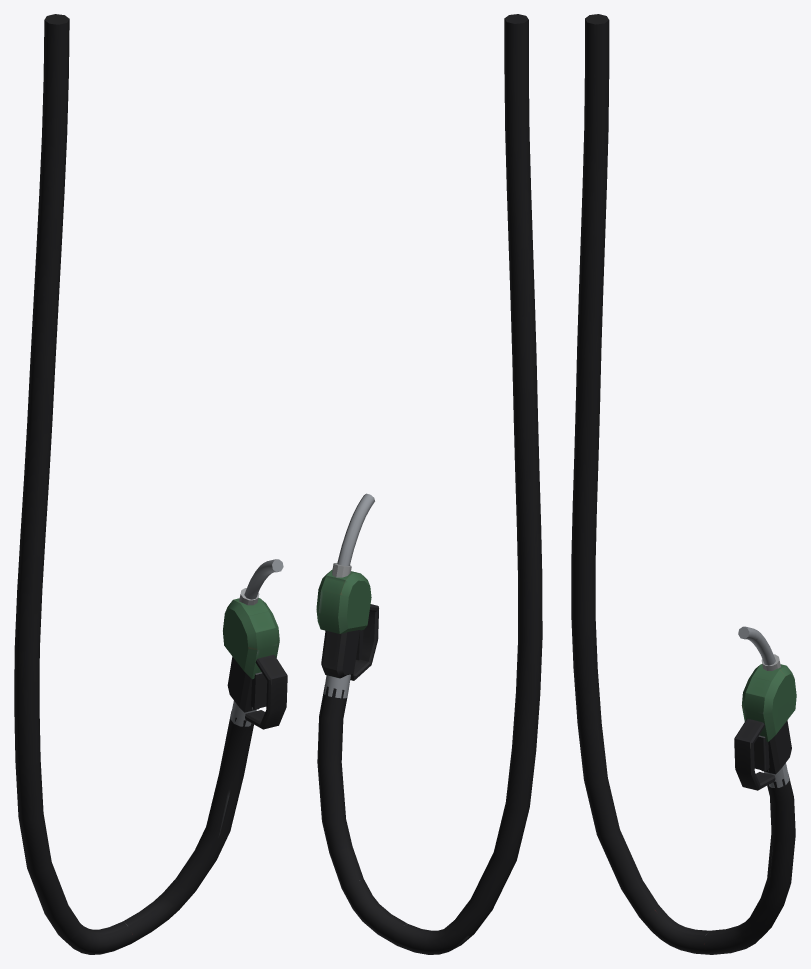
The model's file is nozzle_front_diesel.obj.
The picture shows the model from 3 angles, left to right: view 1: azimuth 30°, elevation 25°; view 2: azimuth 150°, elevation 25°; view 3: azimuth 330°, elevation 25°; orthographic projection. The views are drawn at different scales.
Parts seen in each view (by area): view 1: hose_diesel_front, nozzle_diesel_cover_front, nozzle_diesel_guard_front, nozzle_diesel_steel_front, nozzle_diesel_handle_front; view 2: hose_diesel_front, nozzle_diesel_cover_front, nozzle_diesel_handle_front, nozzle_diesel_steel_front, nozzle_diesel_guard_front; view 3: hose_diesel_front, nozzle_diesel_cover_front, nozzle_diesel_guard_front, nozzle_diesel_steel_front, nozzle_diesel_handle_front.
Boxes of the visible parts, left/top/right/bottom form: hose_diesel_front: left=14, top=14, right=253, bottom=954; nozzle_diesel_cover_front: left=223, top=598, right=279, bottom=679; nozzle_diesel_guard_front: left=245, top=654, right=287, bottom=729; nozzle_diesel_steel_front: left=230, top=559, right=283, bottom=726; nozzle_diesel_handle_front: left=227, top=656, right=259, bottom=712; hose_diesel_front: left=317, top=14, right=542, bottom=954; nozzle_diesel_cover_front: left=316, top=569, right=371, bottom=633; nozzle_diesel_handle_front: left=321, top=630, right=359, bottom=678; nozzle_diesel_steel_front: left=324, top=493, right=374, bottom=698; nozzle_diesel_guard_front: left=350, top=604, right=378, bottom=680; hose_diesel_front: left=571, top=14, right=795, bottom=954; nozzle_diesel_cover_front: left=741, top=664, right=796, bottom=741; nozzle_diesel_guard_front: left=734, top=718, right=775, bottom=790; nozzle_diesel_steel_front: left=738, top=626, right=789, bottom=787; nozzle_diesel_handle_front: left=761, top=720, right=791, bottom=774.
Size of the model in its own units: 0.5577 by 2.2 by 0.2716.
